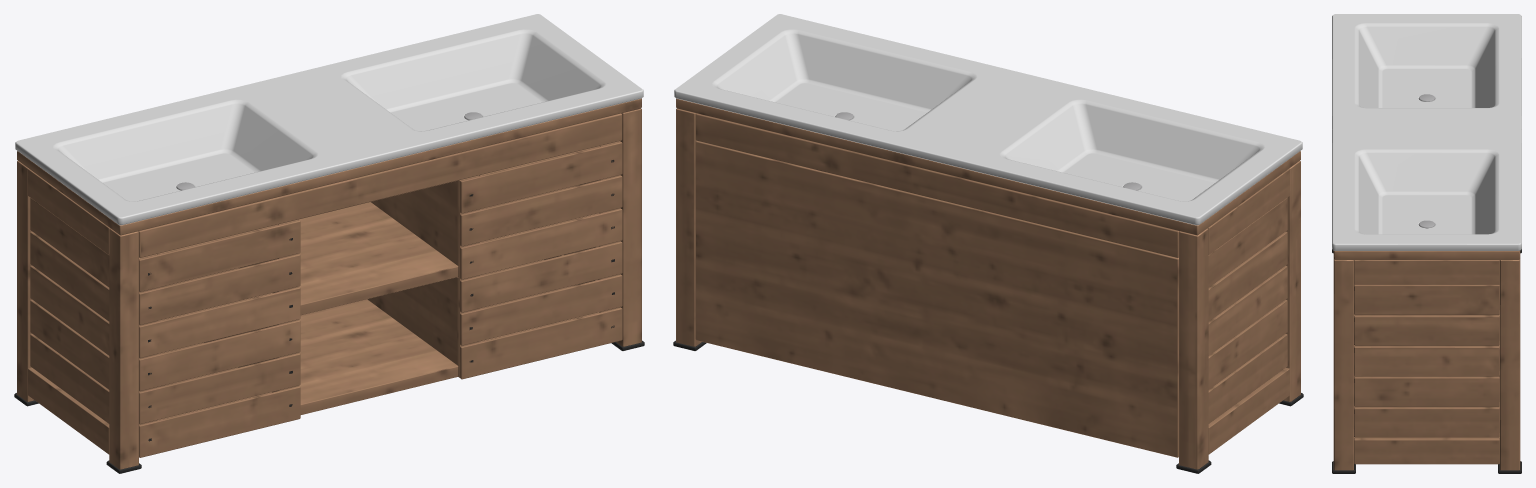
File: sink2.gltf
3 views of the same model, side by side, from view 1: azimuth 30°, elevation 25°; view 2: azimuth 150°, elevation 25°; view 3: azimuth 270°, elevation 25° (orthographic). The views are drawn at different scales.
Parts seen in each view (by area): view 1: SM_Storage16; view 2: SM_Storage16; view 3: SM_Storage16.
Part boxes in pixels (x1=…): SM_Storage16: x1=14, y1=14, x2=644, y2=473; SM_Storage16: x1=673, y1=14, x2=1303, y2=473; SM_Storage16: x1=1332, y1=14, x2=1521, y2=473.
Bounding box in the file's own units: 1.61 × 0.75 × 0.5606.
Materials: 5 (2 with a texture image).
